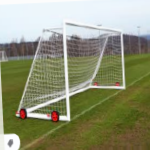goals: (15, 20, 126, 122)
